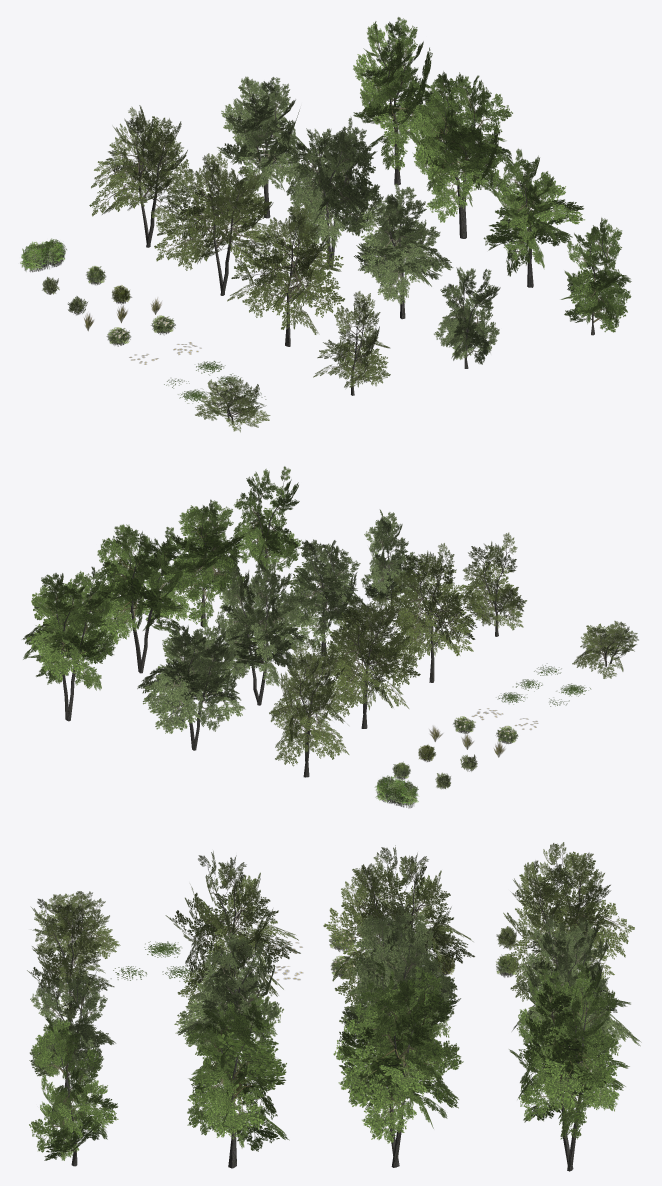
Rendered from shapespark_low_poly_plants.gltf.
3 views of the same model, one above another, from view 1: azimuth 30°, elevation 25°; view 2: azimuth 150°, elevation 25°; view 3: azimuth 270°, elevation 25° (orthographic). The views are drawn at different scales.
Visible parts, largest first — view 1: Tree-03-2, Tree-01-2, Tree-02-2, Tree-01-3, Tree-03-1, Tree-01-1, Tree-03-3, Tree-02-3, Tree-02-1, Tree-03-4, Tree-02-4, Tree-01-4 (+2 smaller); view 2: Tree-03-2, Tree-03-1, Tree-02-1, Tree-01-2, Tree-02-2, Tree-01-3, Tree-01-1, Tree-03-3, Tree-02-3, Tree-03-4, Tree-01-4, Tree-02-4 (+2 smaller); view 3: Tree-03-2, Tree-03-1, Tree-03-3, Tree-01-1, Tree-01-2, Tree-01-3, Tree-03-4, Tree-02-2, Tree-02-3, Tree-02-1, Tree-02-4, Tree-01-4 (+1 smaller).
Part boxes in pixels (box(x1,y1,x2,y2)): Tree-03-2: box(412, 71, 516, 238); Tree-01-2: box(154, 151, 275, 295); Tree-02-2: box(285, 117, 383, 267); Tree-01-3: box(227, 204, 344, 346); Tree-03-1: box(353, 17, 442, 184); Tree-01-1: box(89, 105, 192, 247); Tree-03-3: box(483, 148, 584, 287); Tree-02-3: box(354, 183, 453, 319); Tree-02-1: box(217, 76, 308, 218); Tree-03-4: box(560, 217, 631, 335); Tree-02-4: box(434, 267, 500, 368); Tree-01-4: box(313, 291, 390, 395); Tree-03-2: box(91, 524, 191, 673); Tree-03-1: box(22, 567, 115, 721); Tree-02-1: box(137, 622, 245, 750); Tree-01-2: box(313, 589, 420, 728); Tree-02-2: box(215, 559, 306, 705); Tree-01-3: box(381, 543, 483, 682); Tree-01-1: box(269, 639, 349, 777); Tree-03-3: box(160, 499, 244, 628); Tree-02-3: box(286, 539, 364, 655); Tree-03-4: box(233, 466, 301, 582); Tree-01-4: box(459, 532, 526, 636); Tree-02-4: box(361, 509, 419, 609); Tree-03-2: box(333, 962, 463, 1167); Tree-03-1: box(509, 962, 629, 1171); Tree-03-3: box(185, 996, 289, 1168); Tree-01-1: box(503, 842, 634, 1001); Tree-01-2: box(323, 845, 474, 1004); Tree-01-3: box(165, 851, 300, 1004); Tree-03-4: box(29, 1017, 118, 1166); Tree-02-2: box(339, 906, 460, 1080); Tree-02-3: box(174, 932, 283, 1064); Tree-02-1: box(512, 916, 641, 1091); Tree-02-4: box(29, 969, 115, 1088); Tree-01-4: box(27, 899, 114, 1021).
Bounding box in the file's own units: 25.65 × 9.14 × 24.98.
Materials: 22 (22 with a texture image).
